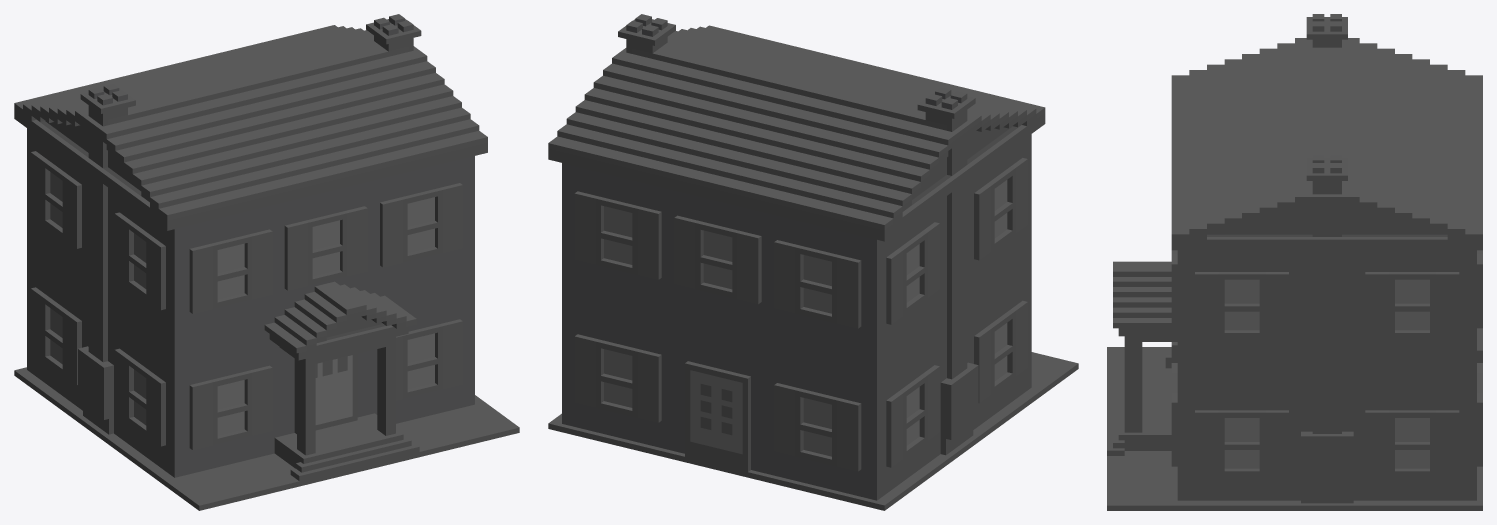
The model's file is bld_house4d.obj.
The picture shows the model from 3 angles, left to right: view 1: azimuth 30°, elevation 25°; view 2: azimuth 150°, elevation 25°; view 3: azimuth 270°, elevation 25°; orthographic projection. The views are drawn at different scales.
Bounding box in the file's own units: 64 × 64 × 64.
